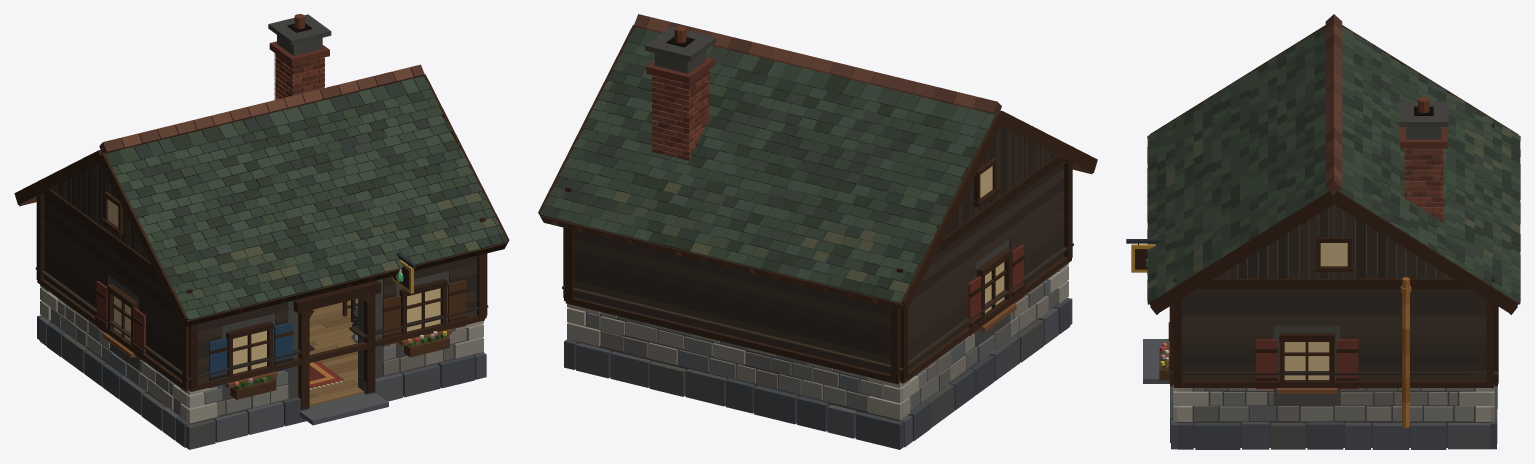
The model's file is still.glb.
3 views of the same model, side by side, from view 1: azimuth 30°, elevation 25°; view 2: azimuth 150°, elevation 25°; view 3: azimuth 270°, elevation 25° (orthographic). The views are drawn at different scales.
Visible parts, largest first — view 1: still_shell, still_interior, still_glass, still_cap; view 2: still_shell, still_cap, still_glass; view 3: still_shell, still_glass, still_cap.
Part boxes in pixels (left/top/right/bottom): still_shell: left=14, top=14, right=509, bottom=449; still_interior: left=309, top=298, right=363, bottom=406; still_glass: left=107, top=199, right=440, bottom=373; still_cap: left=35, top=267, right=488, bottom=380; still_shell: left=538, top=14, right=1097, bottom=449; still_cap: left=562, top=243, right=1073, bottom=371; still_glass: left=980, top=166, right=1004, bottom=313; still_shell: left=1126, top=14, right=1520, bottom=449; still_glass: left=1284, top=243, right=1347, bottom=379; still_cap: left=1170, top=370, right=1497, bottom=375.
Bounding box in the file's own units: 8.94 × 7.72 × 8.78.
